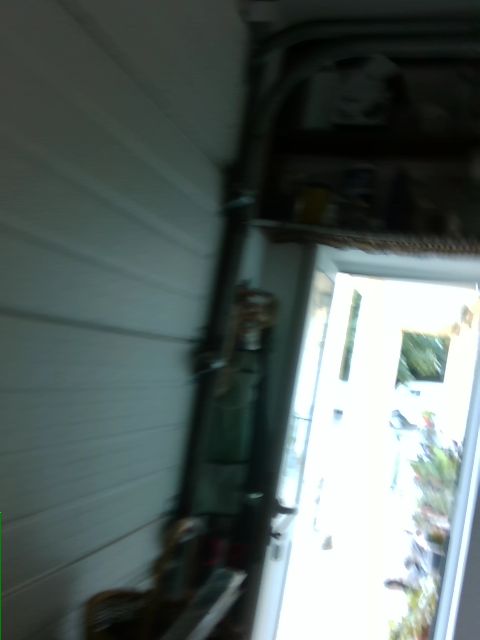open: (233, 243, 479, 639)
